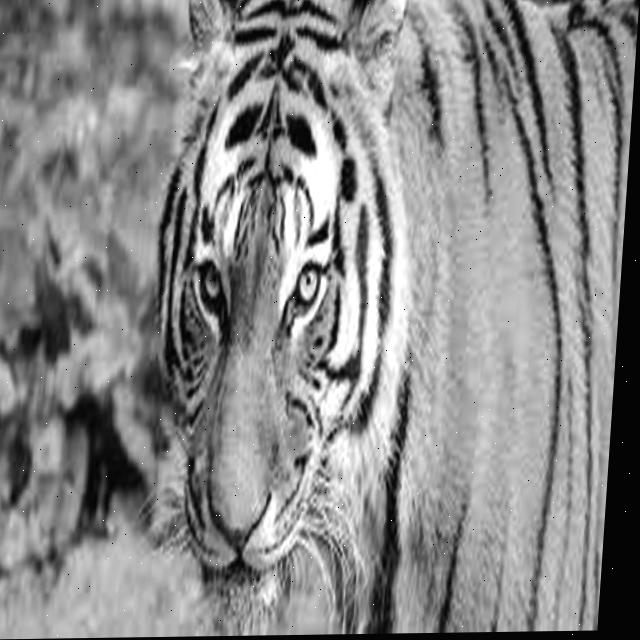Tiger: (129, 0, 639, 636)
